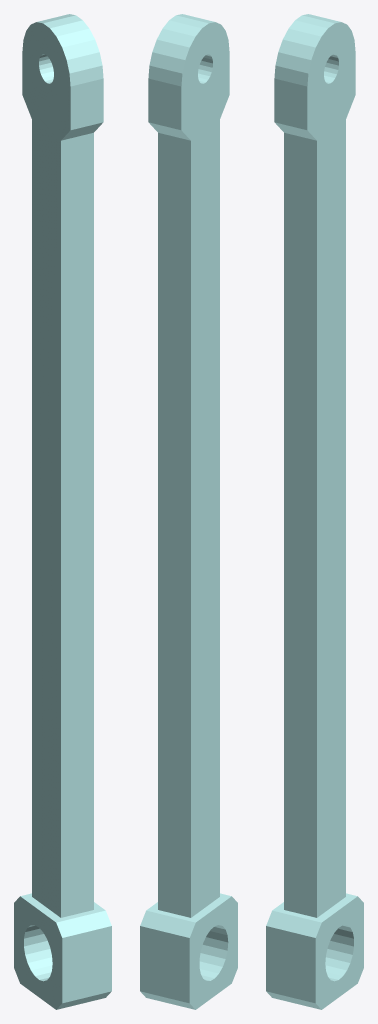
The model's file is connecting_rod.glb.
3 renders of one model, left to right at view 1: azimuth 30°, elevation 25°; view 2: azimuth 150°, elevation 25°; view 3: azimuth 330°, elevation 25°, orthographic.
Visible parts, largest first — view 1: Node1; view 2: Node1; view 3: Node1.
Part boxes in pixels (x1,y1,x2,y2): Node1: (14,14,111,1009); Node1: (140,14,237,1009); Node1: (266,14,363,1009).
Size of the model in its own units: 2.36 by 44.03 by 3.97.
